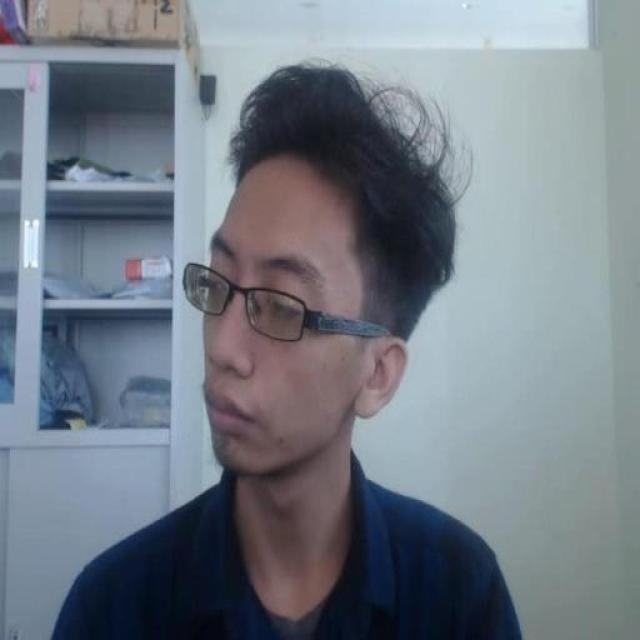bareface: (138, 80, 490, 485)
